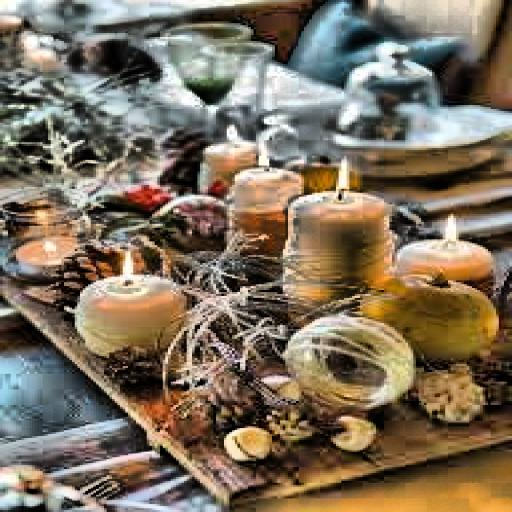fire: (432, 210, 472, 246), (325, 156, 352, 196), (109, 248, 139, 282), (248, 142, 277, 171), (32, 235, 64, 261), (216, 119, 243, 144)
